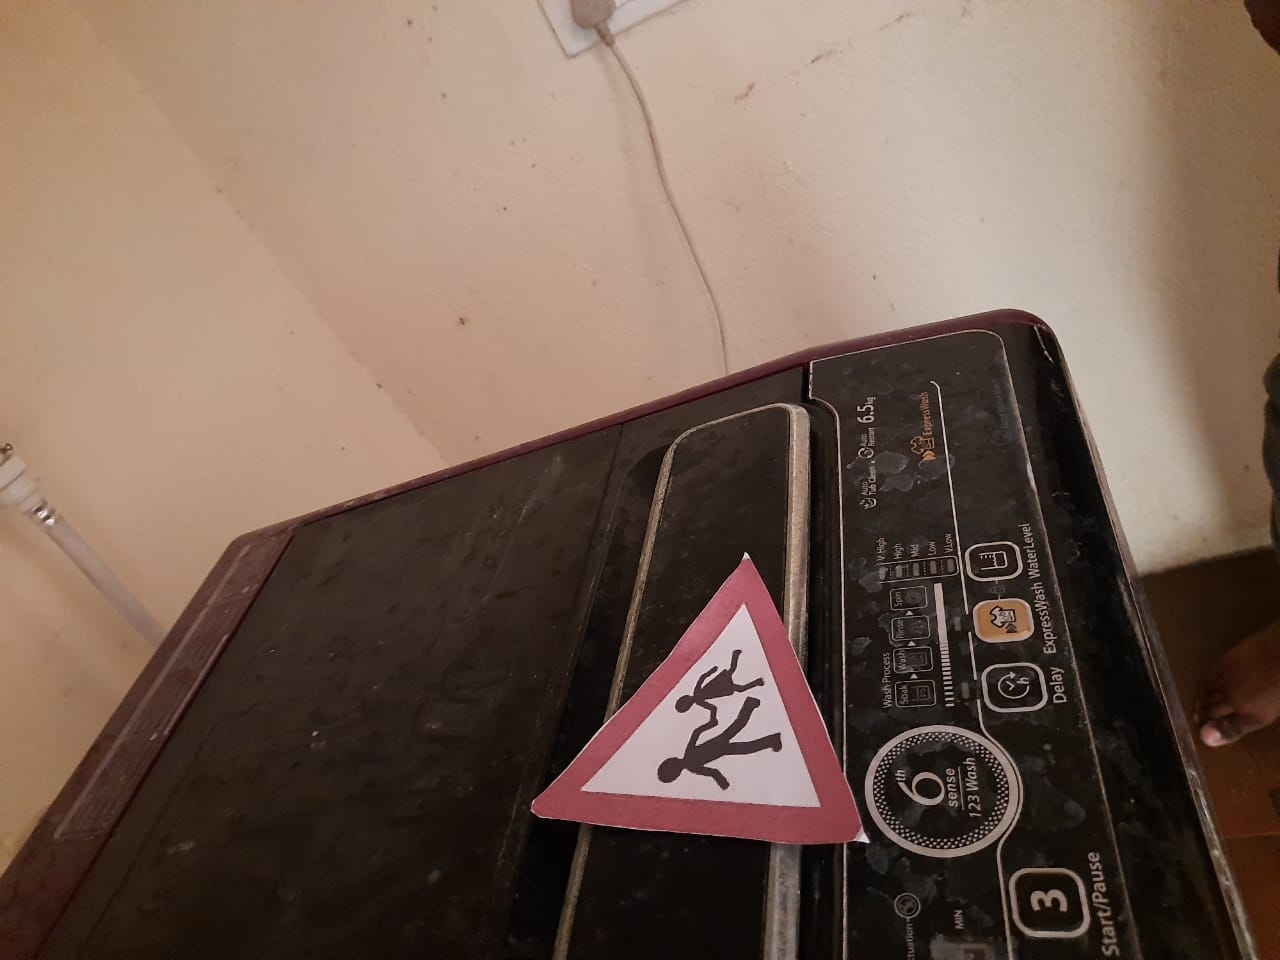SCHOOL ZONE: (547, 548, 893, 861)
